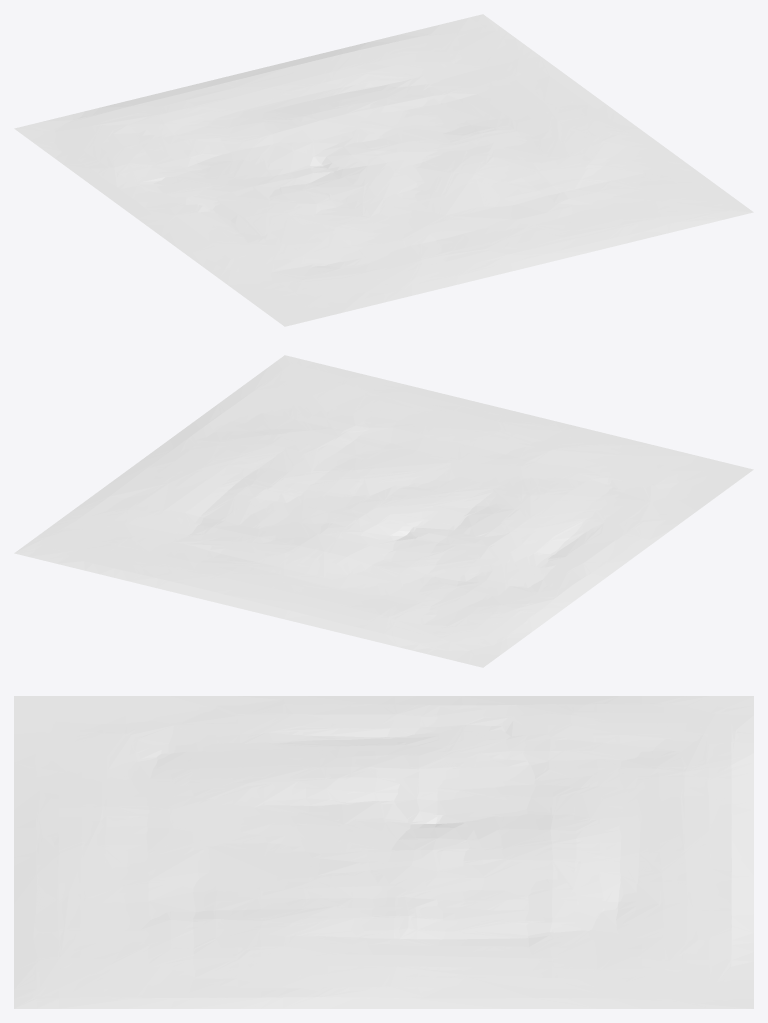
Rendered from Road_Terrain_Snowy.fbx.
3 renders of one model, top to bottom at view 1: azimuth 30°, elevation 25°; view 2: azimuth 150°, elevation 25°; view 3: azimuth 270°, elevation 25°, orthographic. The views are drawn at different scales.
Parts seen in each view (by area): view 1: Road Terrain_LOD3_Snowy, Road Terrain_LOD0_Snowy, Road Terrain_LOD2_Snowy, Road Terrain_LOD1_Snowy; view 2: Road Terrain_LOD3_Snowy, Road Terrain_LOD0_Snowy, Road Terrain_LOD2_Snowy, Road Terrain_LOD1_Snowy; view 3: Road Terrain_LOD3_Snowy, Road Terrain_LOD0_Snowy, Road Terrain_LOD2_Snowy, Road Terrain_LOD1_Snowy.
Boxes of the visible parts, x1,y1,x2,y2 form: Road Terrain_LOD3_Snowy: (14, 14, 736, 323); Road Terrain_LOD0_Snowy: (23, 14, 753, 326); Road Terrain_LOD2_Snowy: (28, 18, 753, 306); Road Terrain_LOD1_Snowy: (44, 14, 744, 316); Road Terrain_LOD3_Snowy: (15, 363, 745, 667); Road Terrain_LOD0_Snowy: (14, 355, 753, 661); Road Terrain_LOD2_Snowy: (31, 355, 700, 664); Road Terrain_LOD1_Snowy: (15, 359, 710, 653); Road Terrain_LOD3_Snowy: (14, 696, 753, 1008); Road Terrain_LOD0_Snowy: (14, 696, 753, 1008); Road Terrain_LOD2_Snowy: (14, 696, 753, 1008); Road Terrain_LOD1_Snowy: (14, 696, 753, 1008).
Size of the model in its own units: 1000 by 11.22 by 1000.
